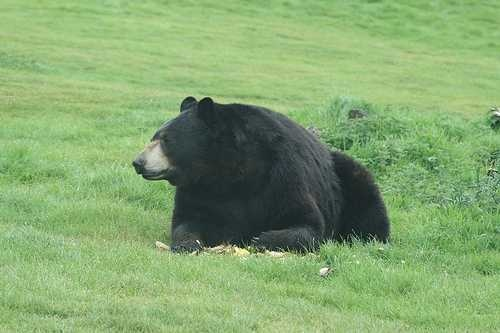bear: (129, 92, 257, 220)
